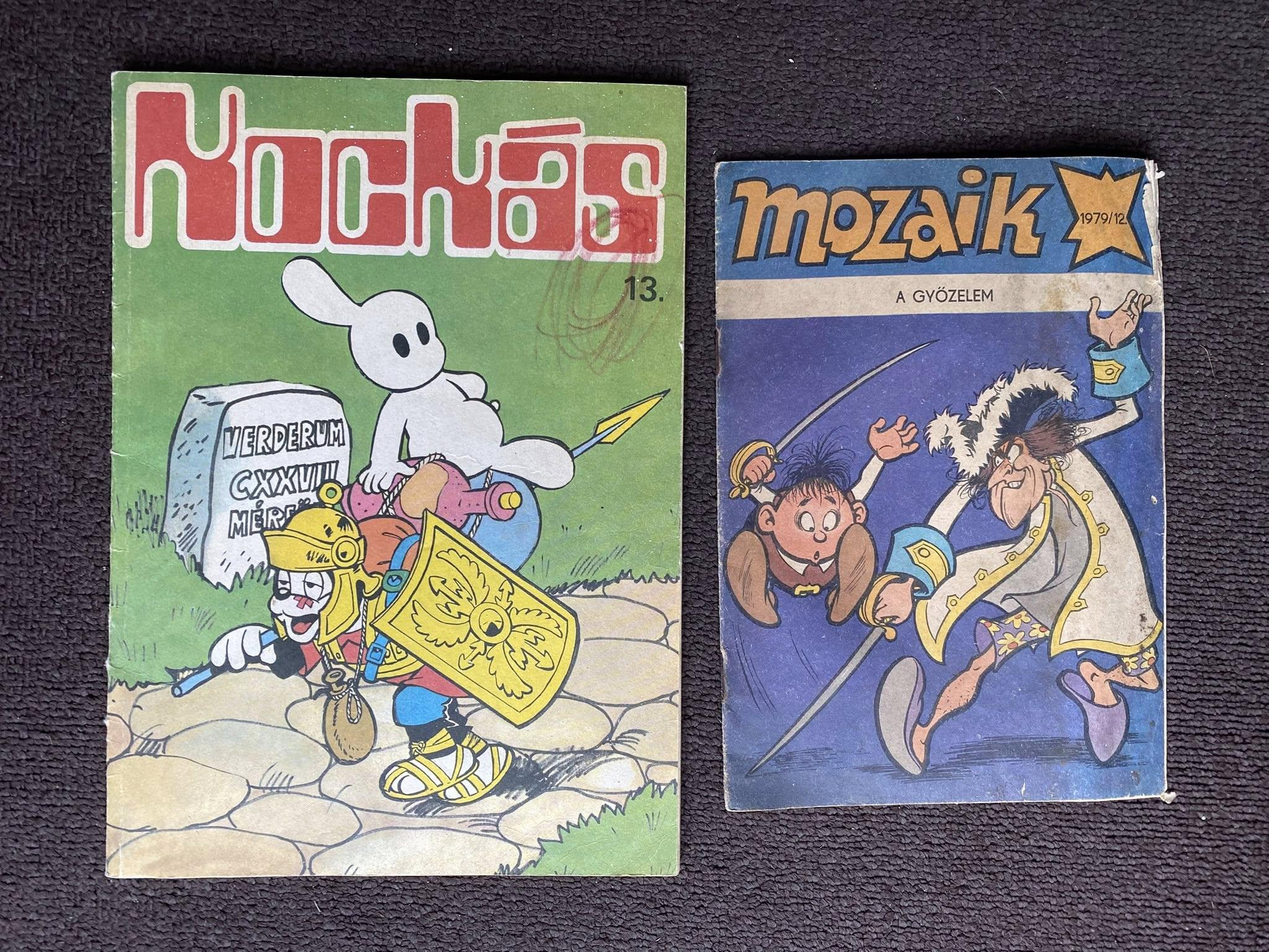comic: (105, 73, 686, 882), (714, 157, 1168, 809)
